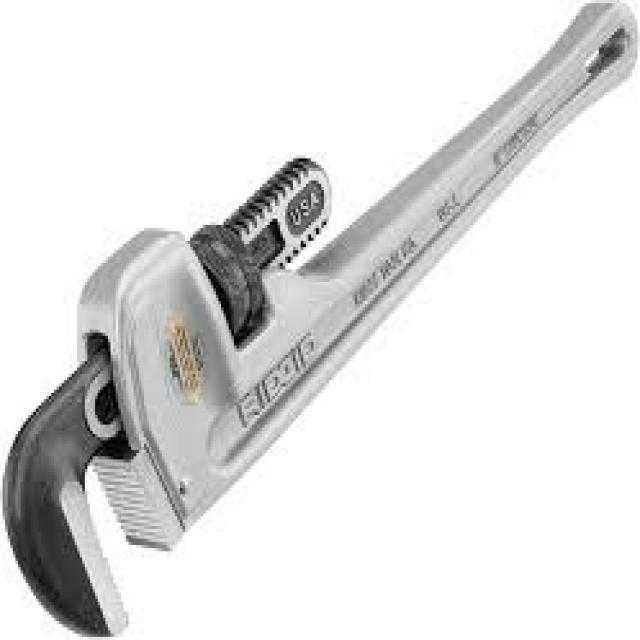wrench: (6, 17, 640, 635)
